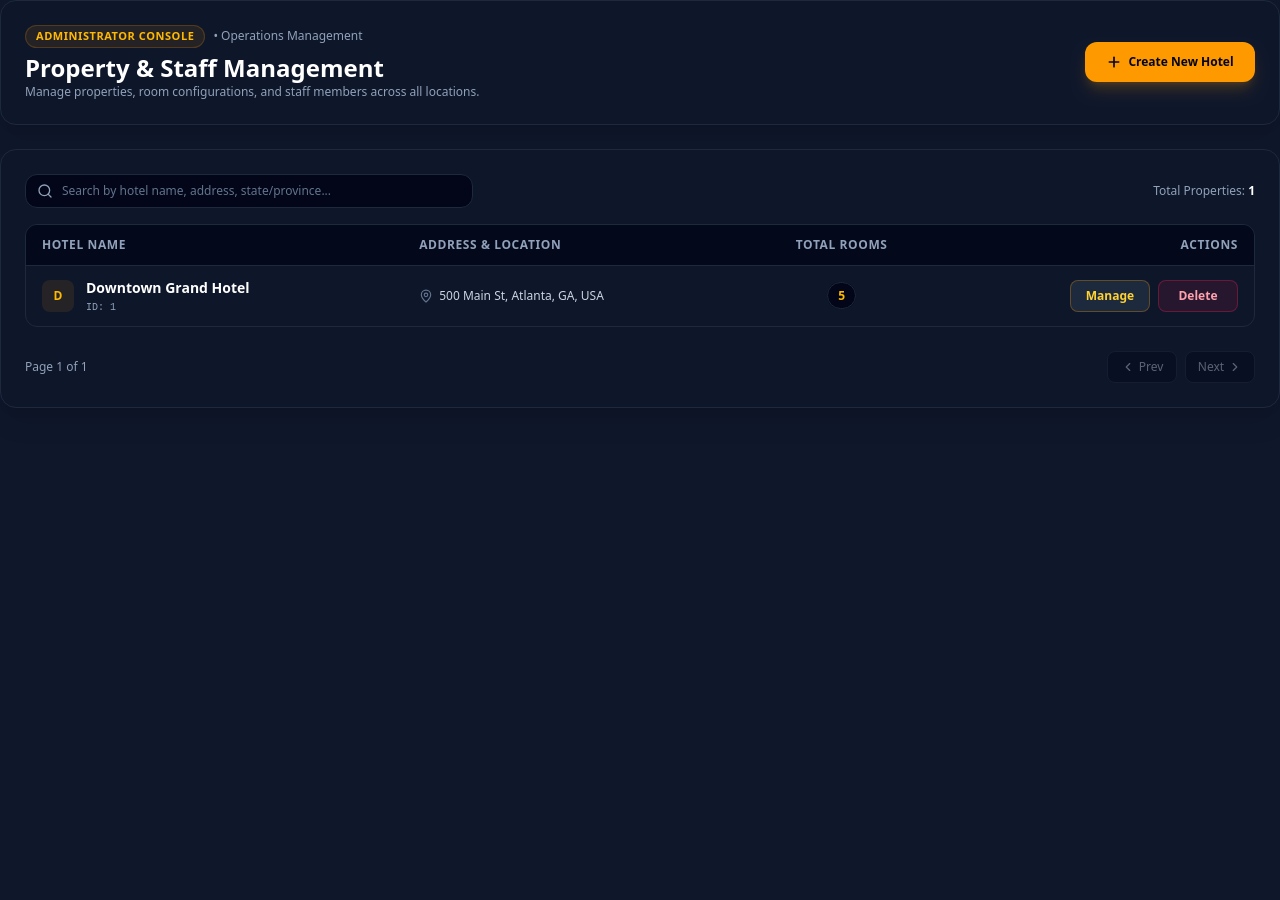
AdminView Room Management & Pricing Tests › displays room type and nightly price in property details and allows editing
The width and height of the screenshot is (1280, 900).
Later steps or results of the test are not shown.
# Open manage hotel modal
Click the button "Manage" at (1110, 296), box [1070,280,1150,312]
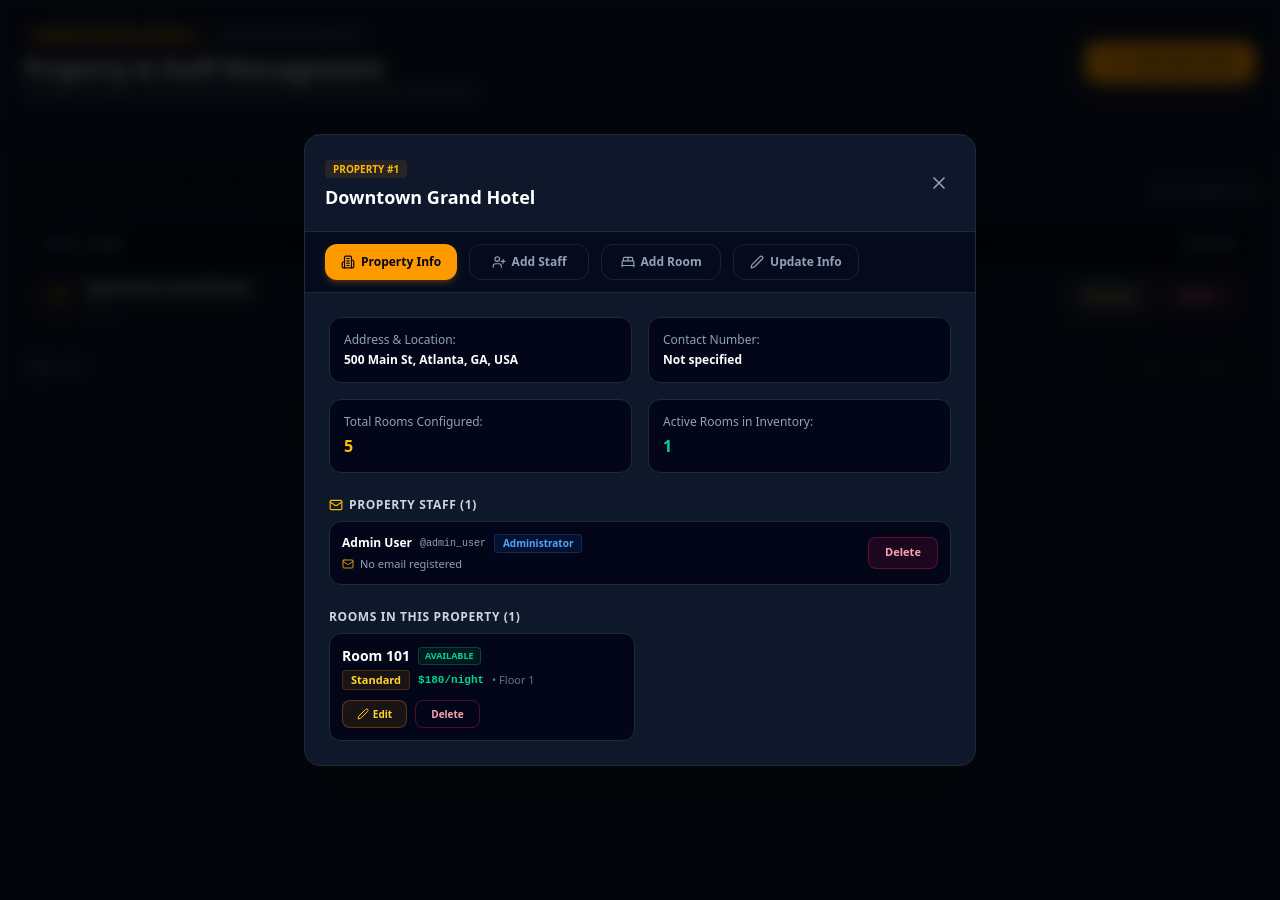
Check: the text "Room 101" is shown, box [342,646,410,666]
Check: the text "$180/night" is shown, box [418,673,484,687]
# Click "Edit" on the room
Click the button "Edit" at (374, 714), box [342,700,407,728]
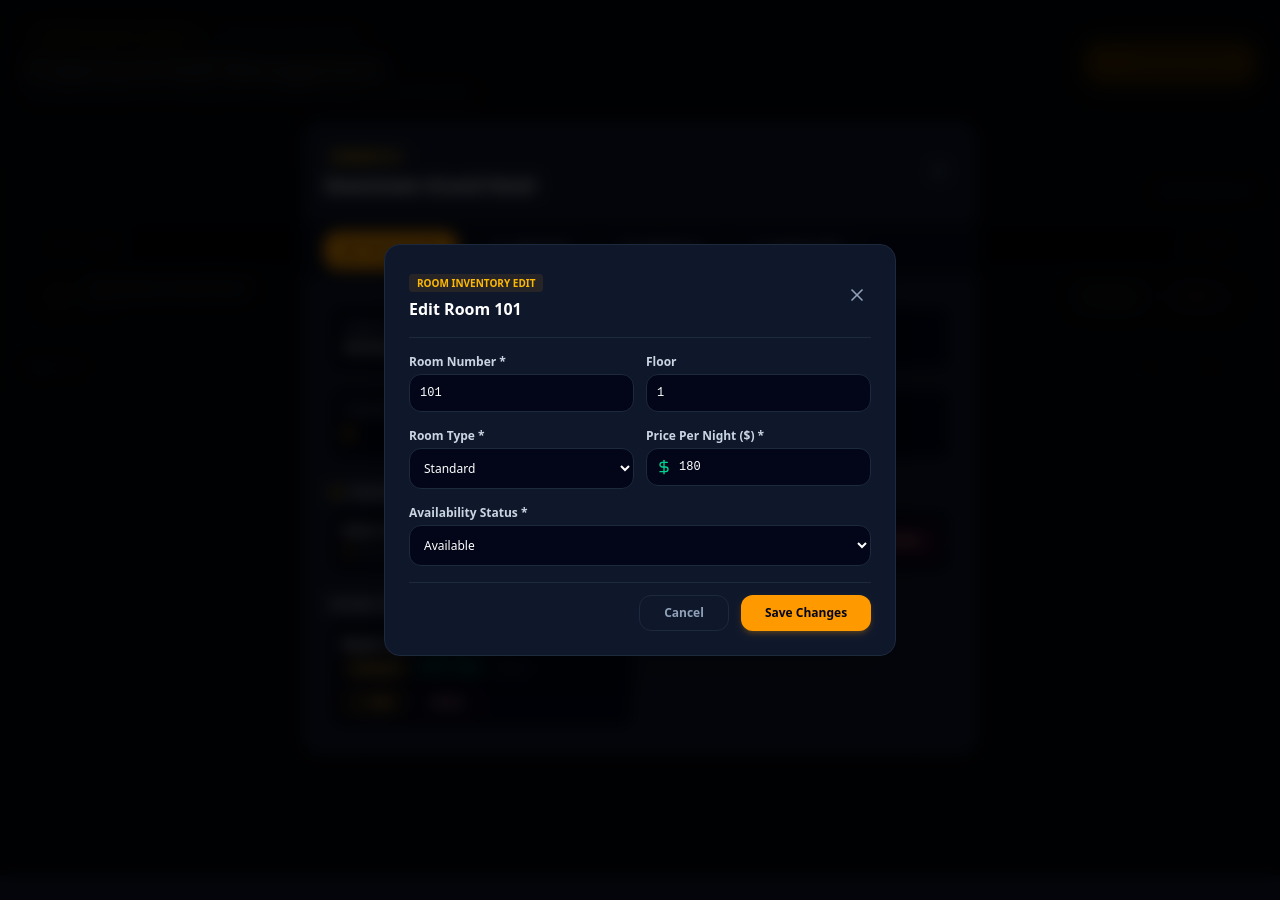
Check: the text "Room Inventory Edit" is shown, box [409,274,544,292]
Check: the heading "Edit Room 101" is shown, box [409,298,522,320]
